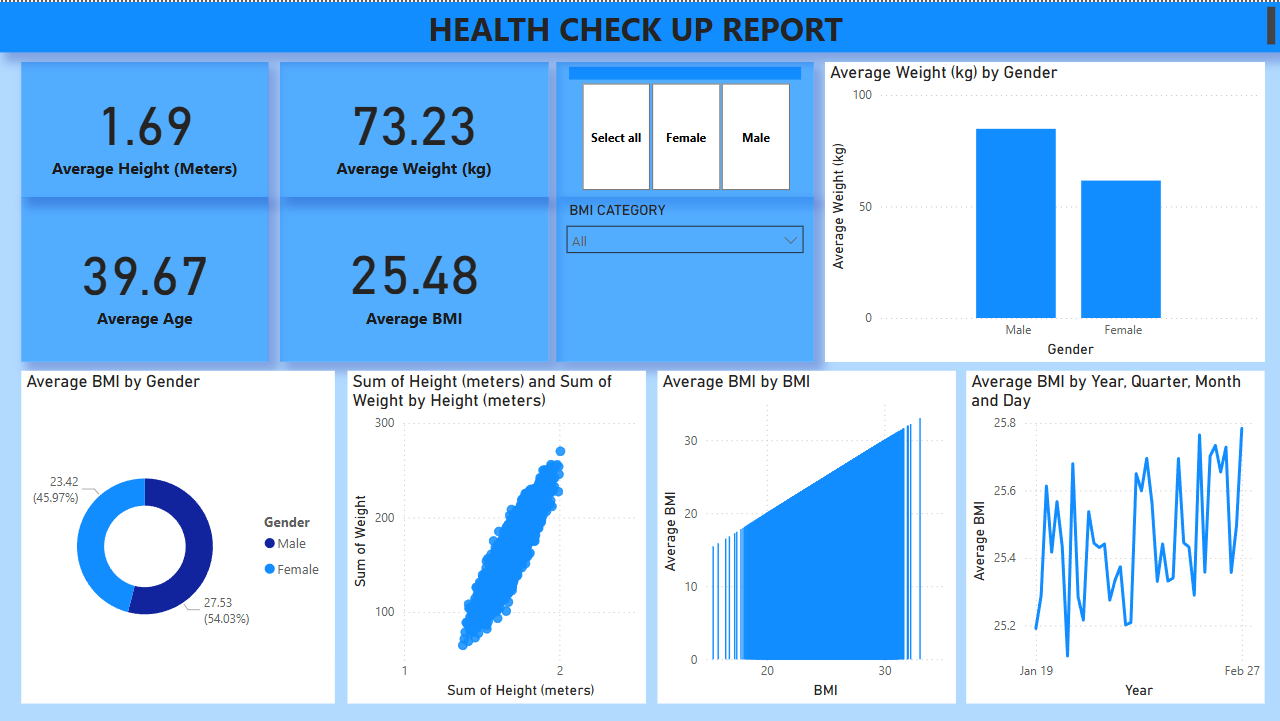

The dashboard page shown, as its layout file describes it:
{"tool":"powerbi","page":{"name":"Page 1","canvas":[1280,720],"ordinal":0},"visuals":[{"type":"card","fields":{"Values":["weight-height-updated.Average Age"]},"box":[21.2,195,247.5,165],"z":1000},{"type":"card","fields":{"Values":["weight-height-updated.Average BMI"]},"box":[280,195.6,268.9,164.4],"z":2000},{"type":"card","fields":{"Values":["weight-height-updated.Average Height (Meters)"]},"box":[21.2,60,247.5,135],"z":3000},{"type":"card","fields":{"Values":["weight-height-updated.Average Weight (kg)"]},"box":[280,60,268.8,135],"z":4000},{"type":"slicer","fields":{"Values":["weight-height-updated.Gender"]},"box":[556.2,60,257.5,135],"z":5000},{"type":"slicer","fields":{"Values":["weight-height-updated.BMI CATEGORY"]},"box":[556.2,195,257.5,165],"z":6000},{"type":"textbox","box":[0,0,1280,50],"z":7000},{"type":"scatterChart","fields":{"Category":["weight-height-updated.Height (meters)","weight-height-updated.Weight"],"X":["Sum(weight-height-updated.Height (meters))"],"Y":["Sum(weight-height-updated.Weight)"]},"box":[347.5,368.8,298.8,332.5],"z":8000},{"type":"donutChart","fields":{"Category":["weight-height-updated.Gender"],"Y":["weight-height-updated.Average BMI"]},"box":[21.2,368.8,313.8,332.5],"z":9000},{"type":"clusteredColumnChart","fields":{"Category":["weight-height-updated.BMI"],"Y":["weight-height-updated.Average BMI"]},"box":[657.5,368.8,298.8,332.5],"z":10000},{"type":"lineChart","fields":{"Y":["weight-height-updated.Average BMI"],"Category":["weight-height-updated.Age.Variation.Date Hierarchy.Year","weight-height-updated.Age.Variation.Date Hierarchy.Quarter","weight-height-updated.Age.Variation.Date Hierarchy.Month","weight-height-updated.Age.Variation.Date Hierarchy.Day"]},"box":[966.2,368.8,298.8,332.5],"z":11000},{"type":"lineStackedColumnComboChart","fields":{"Category":["weight-height-updated.Gender"],"Y":["weight-height-updated.Average Weight (kg)"]},"box":[825,60,440,300],"z":11001}]}

Visuals, with their boxes in screenshot pixels (x1, y1, x2, y2), scaled from the page's 1280x720 canvas onto the 1280x721 screenshot:
card - weight-height-updated.Average Age: [left=21, top=195, right=269, bottom=360]
card - weight-height-updated.Average BMI: [left=280, top=196, right=549, bottom=360]
card - weight-height-updated.Average Height (Meters): [left=21, top=60, right=269, bottom=195]
card - weight-height-updated.Average Weight (kg): [left=280, top=60, right=549, bottom=195]
slicer - weight-height-updated.Gender: [left=556, top=60, right=814, bottom=195]
slicer - weight-height-updated.BMI CATEGORY: [left=556, top=195, right=814, bottom=360]
textbox: [left=0, top=0, right=1279, bottom=50]
scatterChart - weight-height-updated.Height (meters) x weight-height-updated.Weight: [left=348, top=369, right=646, bottom=702]
donutChart - weight-height-updated.Gender x weight-height-updated.Average BMI: [left=21, top=369, right=335, bottom=702]
clusteredColumnChart - weight-height-updated.BMI x weight-height-updated.Average BMI: [left=658, top=369, right=956, bottom=702]
lineChart - weight-height-updated.Average BMI x weight-height-updated.Age.Variation.Date Hierarchy.Year: [left=966, top=369, right=1265, bottom=702]
lineStackedColumnComboChart - weight-height-updated.Gender x weight-height-updated.Average Weight (kg): [left=825, top=60, right=1265, bottom=360]
